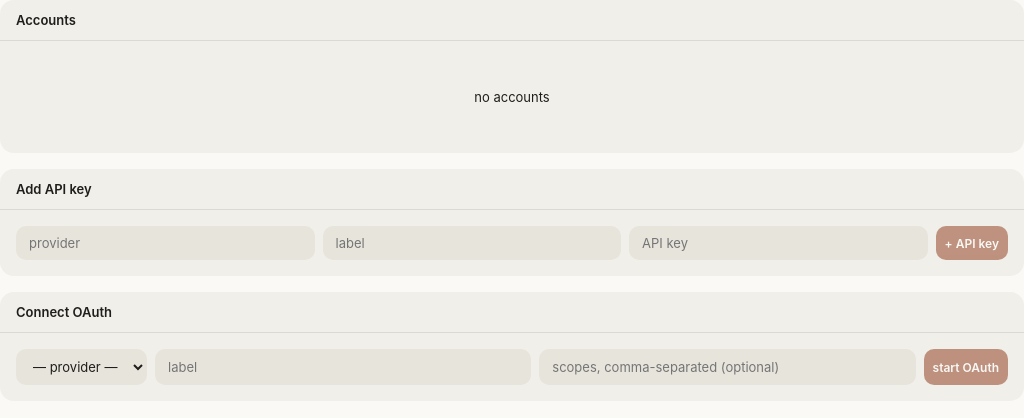
Test case: ConnectorsTab › begin-OAuth submit stays disabled while provider or label is empty
Expected: the button with test id "oauth-begin-submit" is disabled, [924,349,1008,385]
Select "github" in the dropdown with test id "oauth-provider" at (82, 367), box [16,349,147,385]
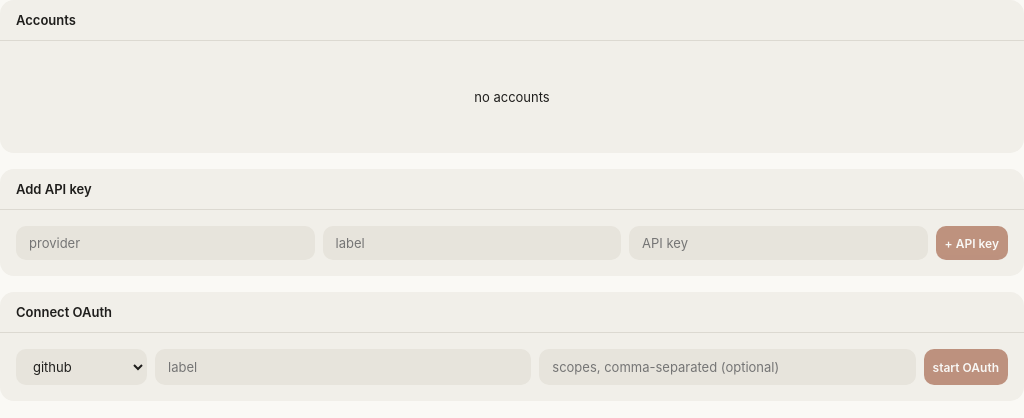
Expected: the button with test id "oauth-begin-submit" is disabled, [924,349,1008,385]
Type "My GitHub" into the field with test id "oauth-label" at (343, 367), box [155,349,531,385]
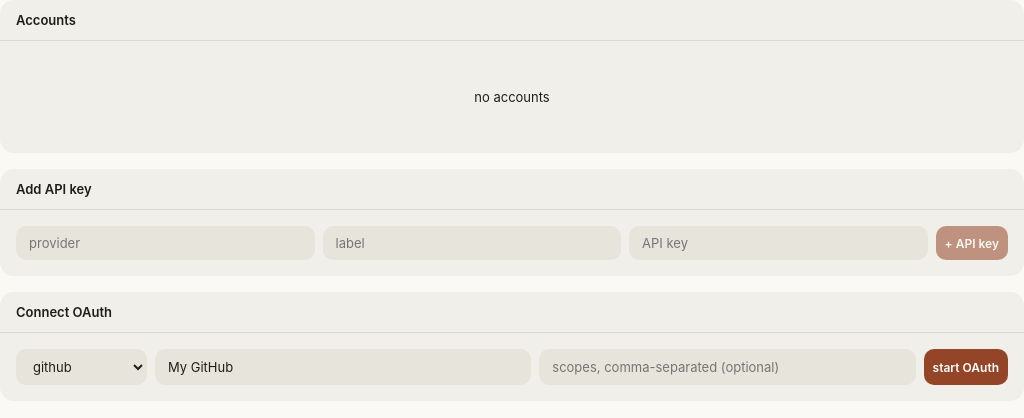
Now the button with test id "oauth-begin-submit" is enabled, box [924,349,1008,385]
